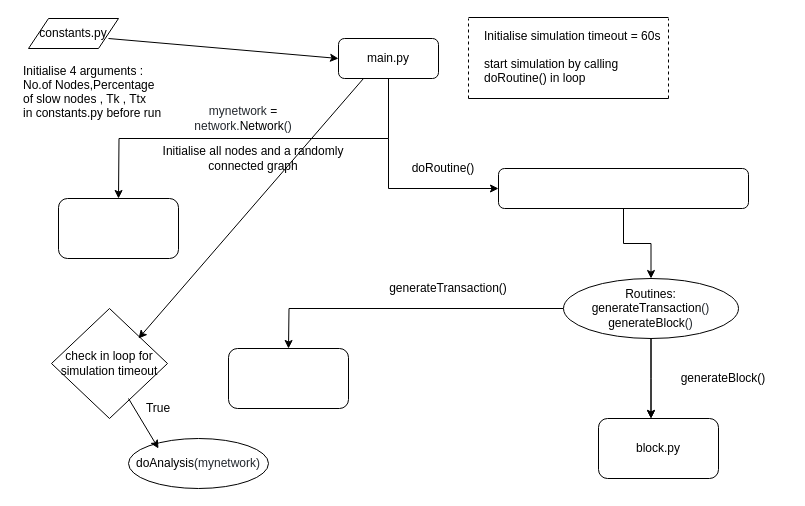
Image size: 805x506. Some labels were removed from this diagram. The shapes that lost their labels are listed below. From the top down, each one's box as (x1, y1, x2, y2) in pixels, then its label:
(498, 168, 748, 208): node.py
(58, 198, 178, 258): network.py
(228, 348, 348, 408): transaction.py
